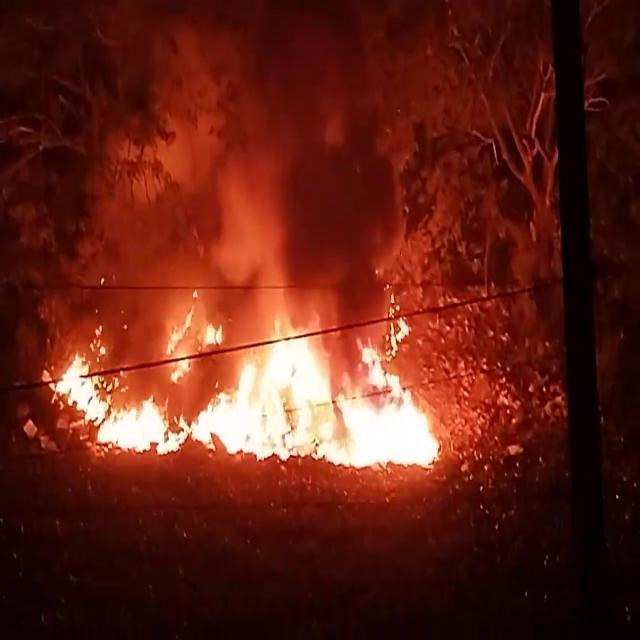Fire: (45, 294, 449, 470)
Smoke: (166, 1, 422, 303)
